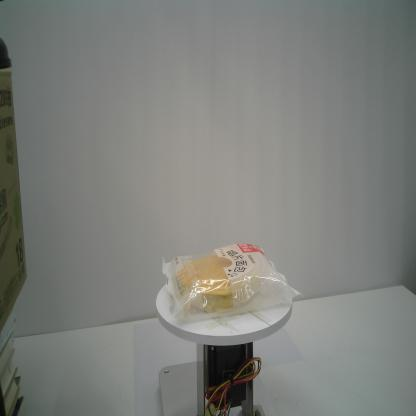Dessert: (161, 242, 305, 322)
